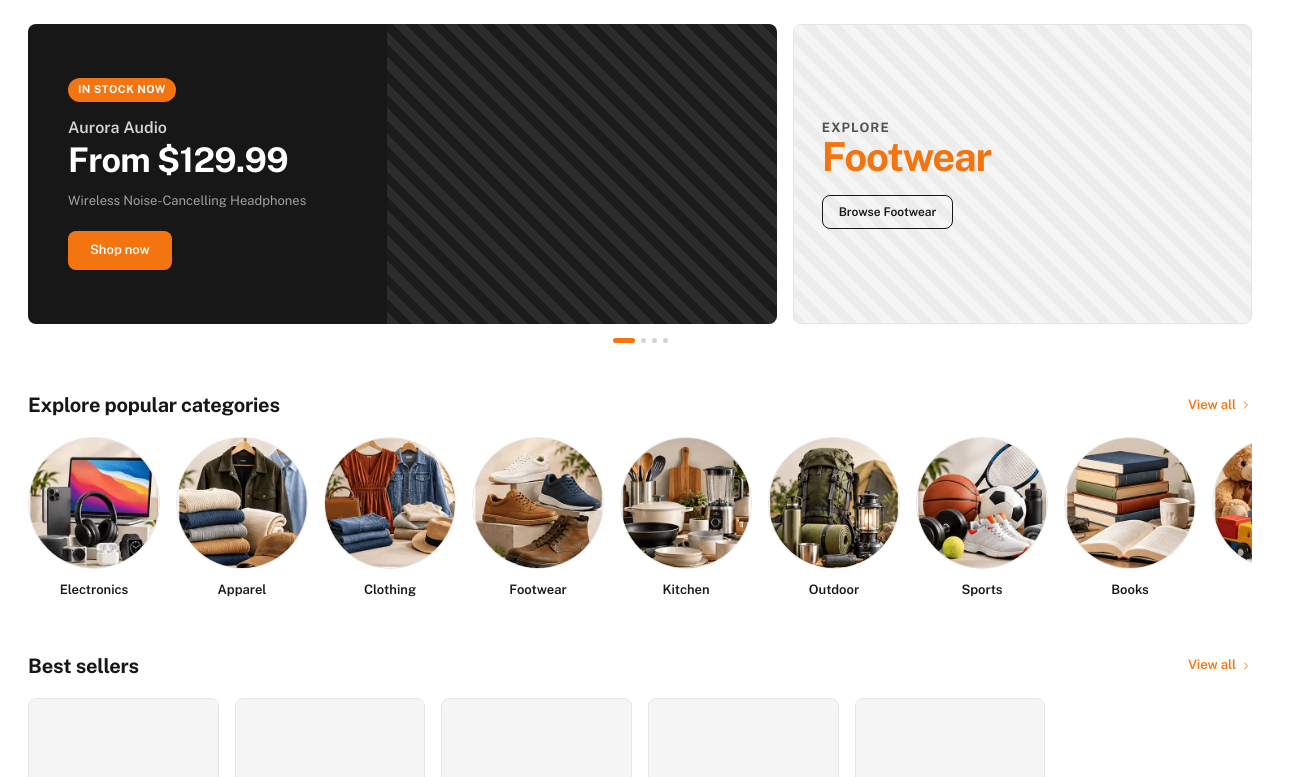
Landing › advances the hero when a carousel dot is clicked
This screenshot has width=1292, height=777.
Click the button named "Show featured product 2". click: [643, 340]
box: [640,338,646,343]
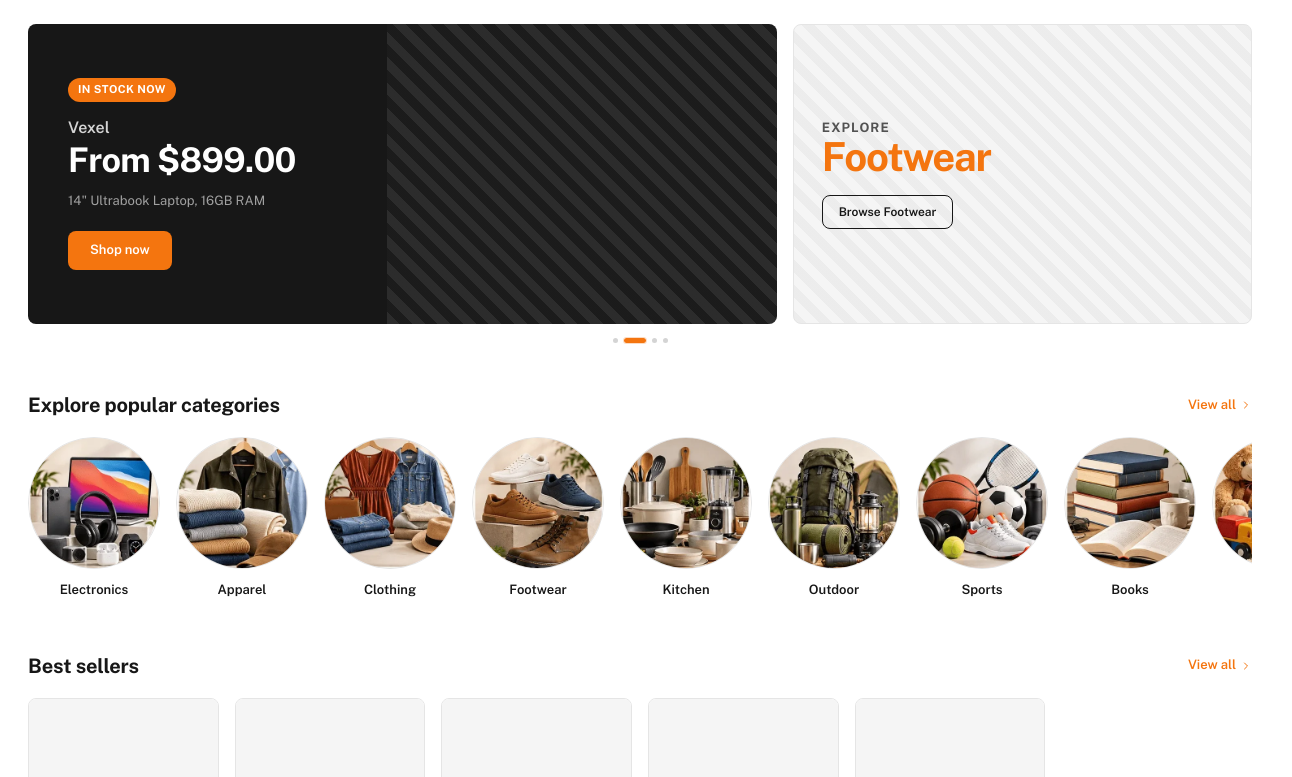
Expected: the text "From $899.00" is shown, [68,140,296,180]
Expected: the text "14\" Ultrabook Laptop, 16GB RAM" is shown, [68,193,265,208]
